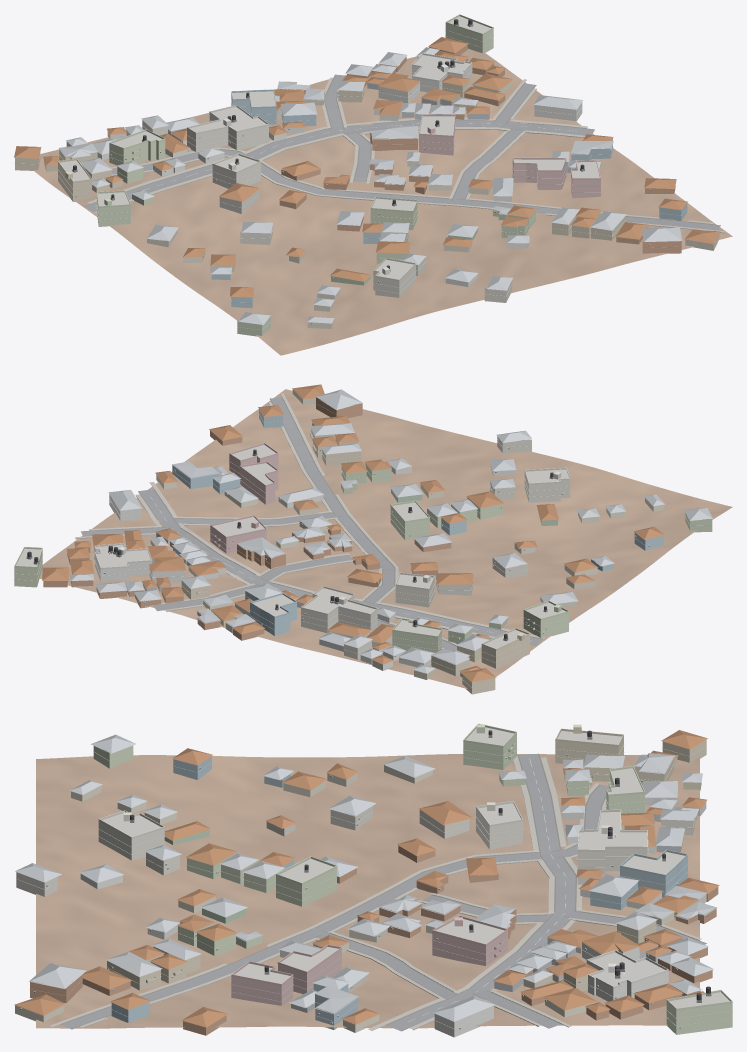
The picture shows the model from 3 angles, top to bottom: view 1: azimuth 30°, elevation 25°; view 2: azimuth 150°, elevation 25°; view 3: azimuth 270°, elevation 25°; orthographic projection. The views are drawn at different scales.
Visible parts, largest first — view 1: Terrain-col, Buildings-col, Roads-col, Details, Sidewalks-col; view 2: Buildings-col, Terrain-col, Roads-col, Details, Sidewalks-col; view 3: Buildings-col, Terrain-col, Roads-col, Details, Sidewalks-col.
Part boxes in pixels (x1,y1,x2,y2): Terrain-col: [33, 48, 732, 355]; Buildings-col: [14, 16, 720, 336]; Roads-col: [83, 74, 720, 230]; Details: [14, 14, 715, 330]; Sidewalks-col: [87, 77, 724, 233]; Buildings-col: [14, 384, 712, 694]; Terrain-col: [39, 389, 732, 688]; Roads-col: [81, 397, 542, 650]; Details: [14, 403, 712, 688]; Sidewalks-col: [75, 393, 544, 649]; Buildings-col: [14, 727, 732, 1037]; Terrain-col: [36, 754, 699, 1028]; Roads-col: [61, 753, 706, 1031]; Details: [16, 723, 732, 1029]; Sidewalks-col: [50, 755, 701, 1030].
Size of the model in its own units: 272 by 20.03 by 277.
